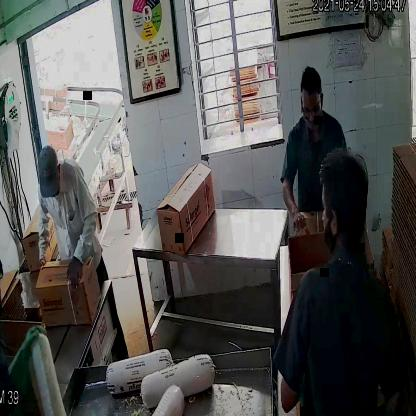goggles: (298, 96, 324, 122)
